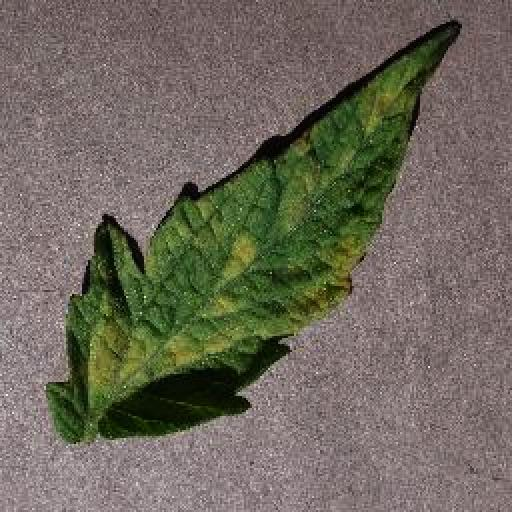disease_tomato: (50, 20, 463, 444)
